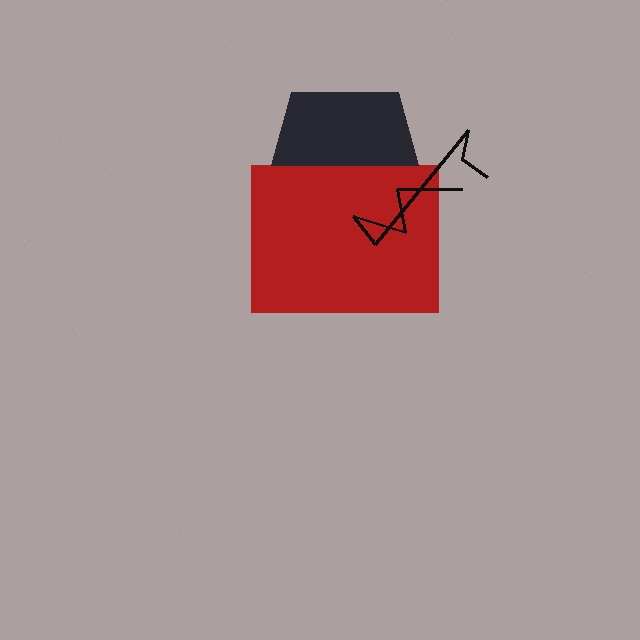crocodile_crack: (353, 124, 488, 251)
vehicle: (251, 92, 438, 312)
